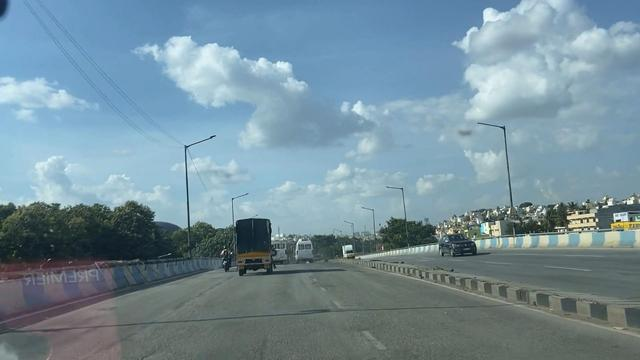HMV: (232, 213, 277, 270)
LMV: (220, 243, 232, 268)
RoadDamages: (293, 276, 370, 342), (133, 323, 188, 360)
